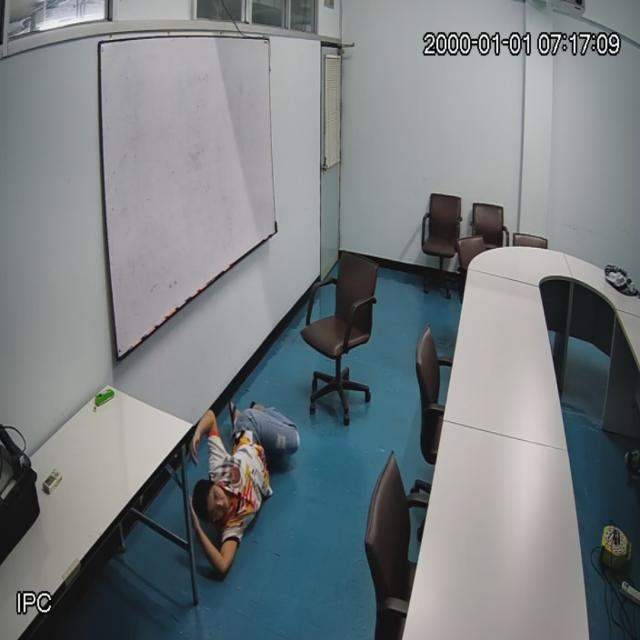fall: (187, 394, 313, 578)
